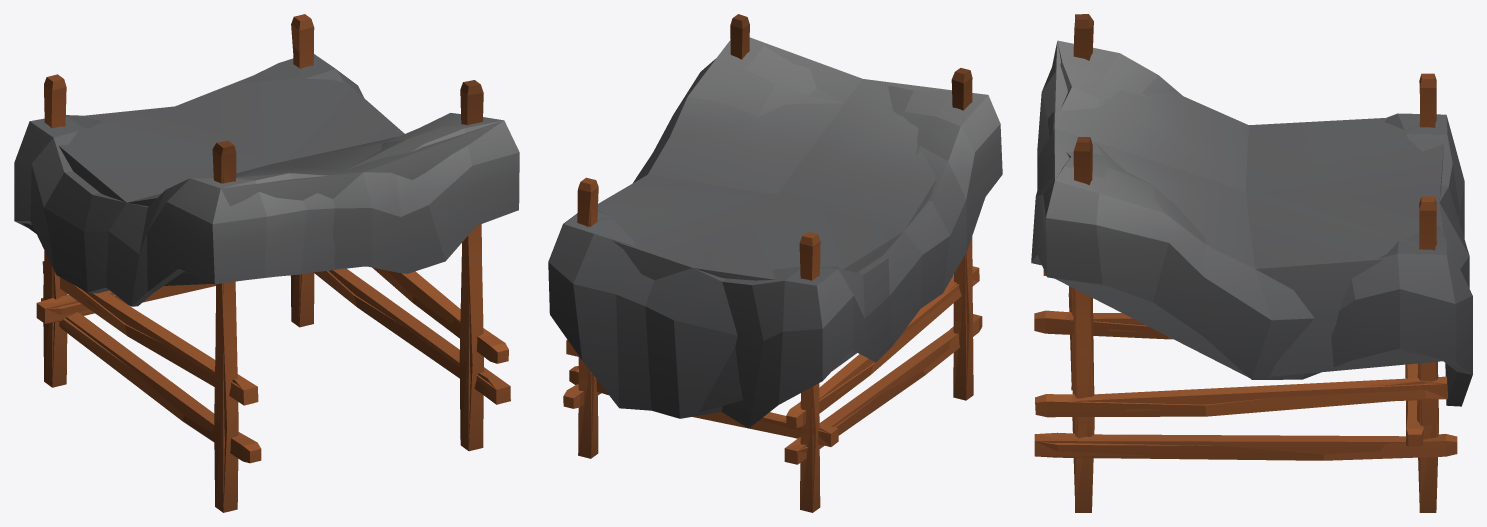
The model's file is Tent 02.fbx.
3 renders of one model, left to right at view 1: azimuth 30°, elevation 25°; view 2: azimuth 150°, elevation 25°; view 3: azimuth 270°, elevation 25°, orthographic. The views are drawn at different scales.
Visible parts, largest first — view 1: Tent 02 high, Tent 02 low, Tent 02; view 2: Tent 02 high, Tent 02 low, Tent 02; view 3: Tent 02 high, Tent 02 low, Tent 02.
Boxes of the visible parts, box(x1,y1,x2,y2) form: Tent 02 high: box(14, 14, 519, 511); Tent 02 low: box(22, 66, 503, 285); Tent 02: box(25, 46, 510, 512); Tent 02 high: box(548, 14, 1002, 511); Tent 02 low: box(565, 37, 982, 412); Tent 02: box(567, 209, 979, 512); Tent 02 high: box(1031, 14, 1472, 512); Tent 02 low: box(1053, 41, 1446, 377); Tent 02: box(1034, 270, 1458, 512).
Size of the model in its own units: 3.85 by 3.99 by 4.32.
Materials: 1 (1 with a texture image).
